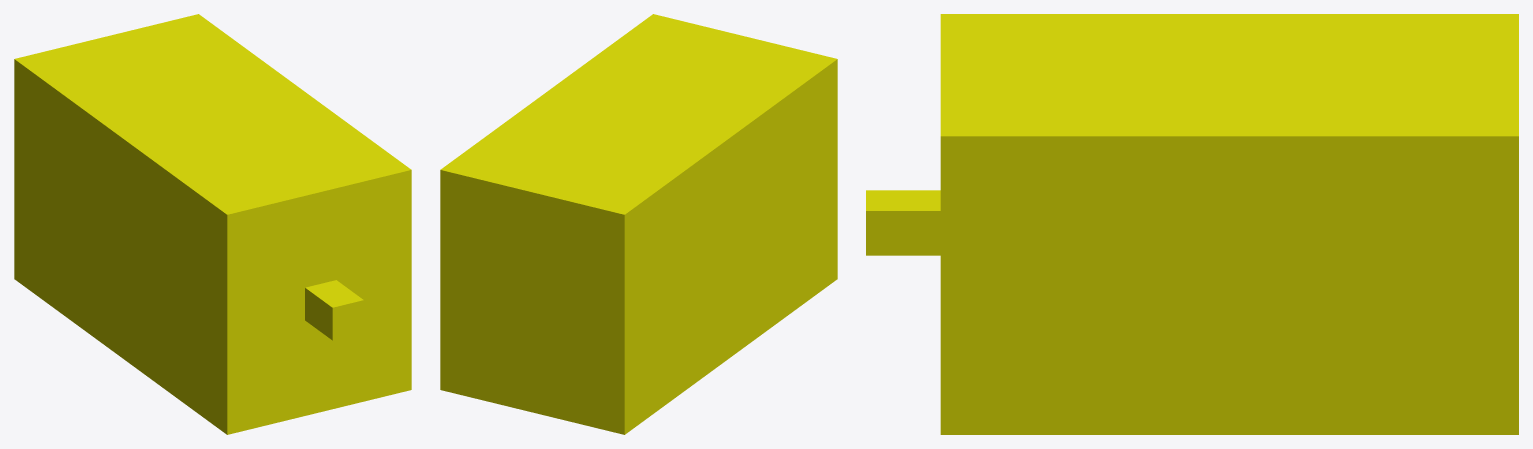
Rendered from mur_grp.fbx.
The picture shows the model from 3 angles, left to right: view 1: azimuth 30°, elevation 25°; view 2: azimuth 150°, elevation 25°; view 3: azimuth 270°, elevation 25°; orthographic projection. The views are drawn at different scales.
Visible parts, largest first — view 1: mur_msh_ref; view 2: mur_msh_ref; view 3: mur_msh_ref.
Boxes of the visible parts, x1,y1,x2,y2 form: mur_msh_ref: (14,14,411,434); mur_msh_ref: (440,14,837,434); mur_msh_ref: (866,14,1518,434).
Size of the model in its own units: 315 by 359 by 711.
